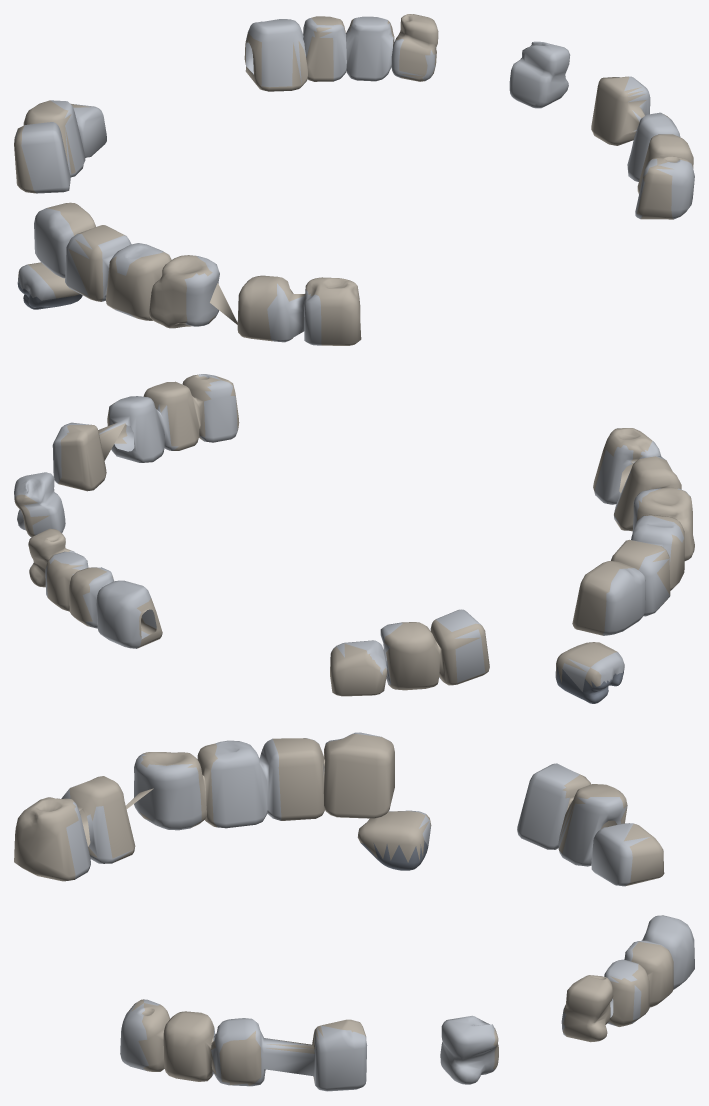
The model's file is SM_bob_map_plaza.fbx.
The picture shows the model from 3 angles, top to bottom: view 1: azimuth 30°, elevation 25°; view 2: azimuth 150°, elevation 25°; view 3: azimuth 270°, elevation 25°; orthographic projection. The views are drawn at different scales.
Visible parts, largest first — view 1: SM_bob_map_plaza; view 2: SM_bob_map_plaza; view 3: SM_bob_map_plaza.
Part boxes in pixels (x1,y1,x2,y2): SM_bob_map_plaza: [14, 14, 694, 345]; SM_bob_map_plaza: [14, 374, 694, 703]; SM_bob_map_plaza: [14, 732, 694, 1091].
Size of the model in its own units: 264 by 50 by 243.
1 material, 1 textured.
